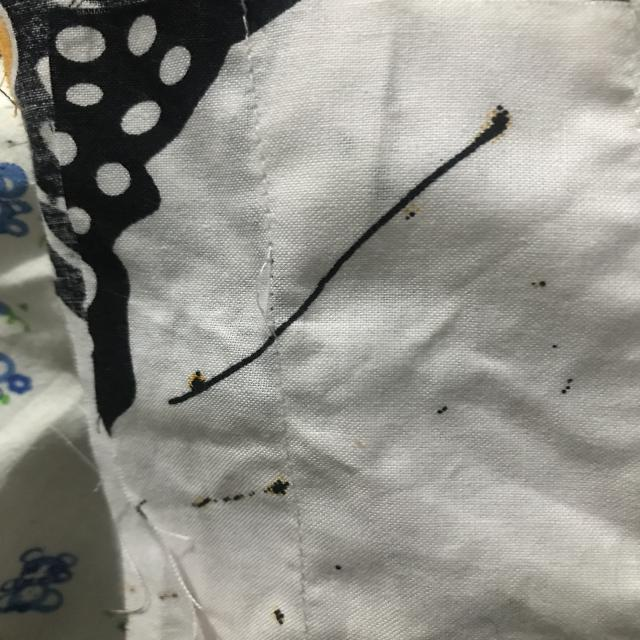skip: (235, 230, 300, 372)
